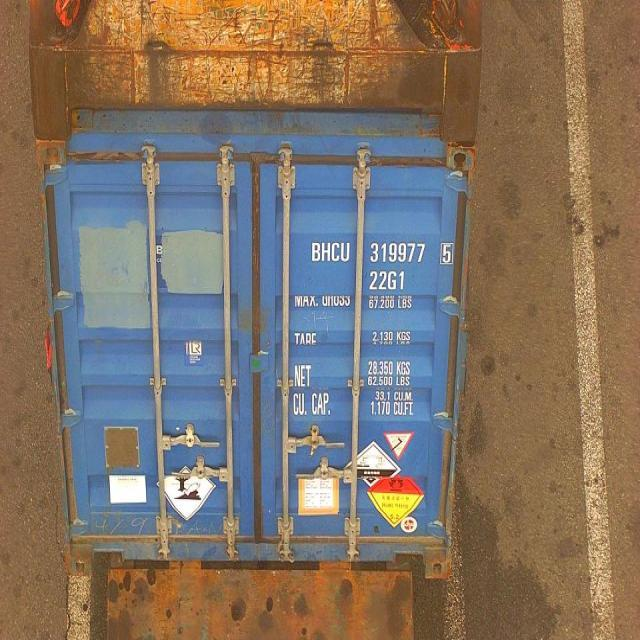ISO: (370, 270, 407, 290)
container_number: (310, 240, 454, 264)
